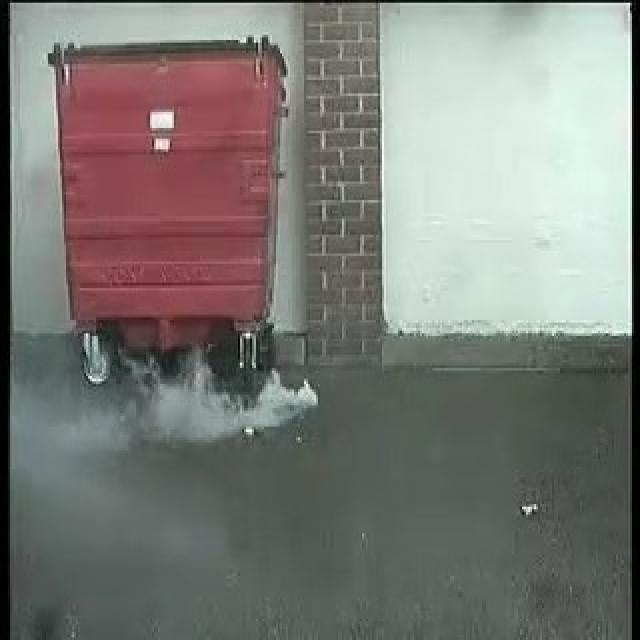smoke: (111, 365, 316, 449)
